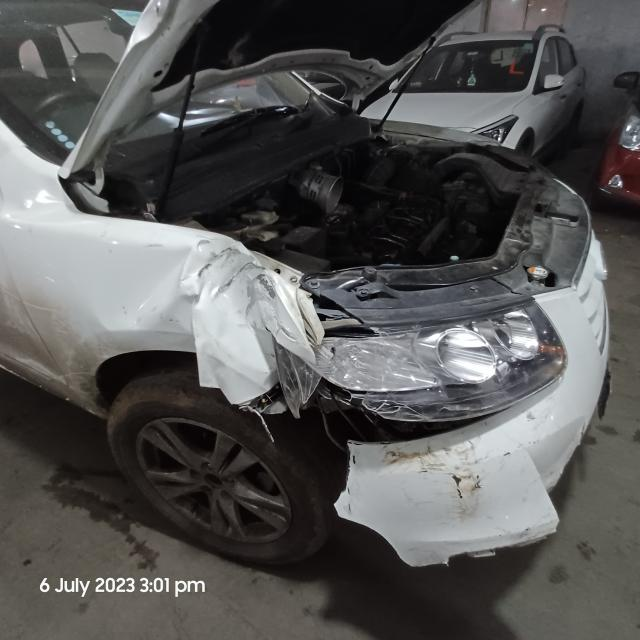damage: (178, 249, 309, 418), (334, 416, 492, 515), (394, 519, 557, 567), (512, 453, 565, 540)
